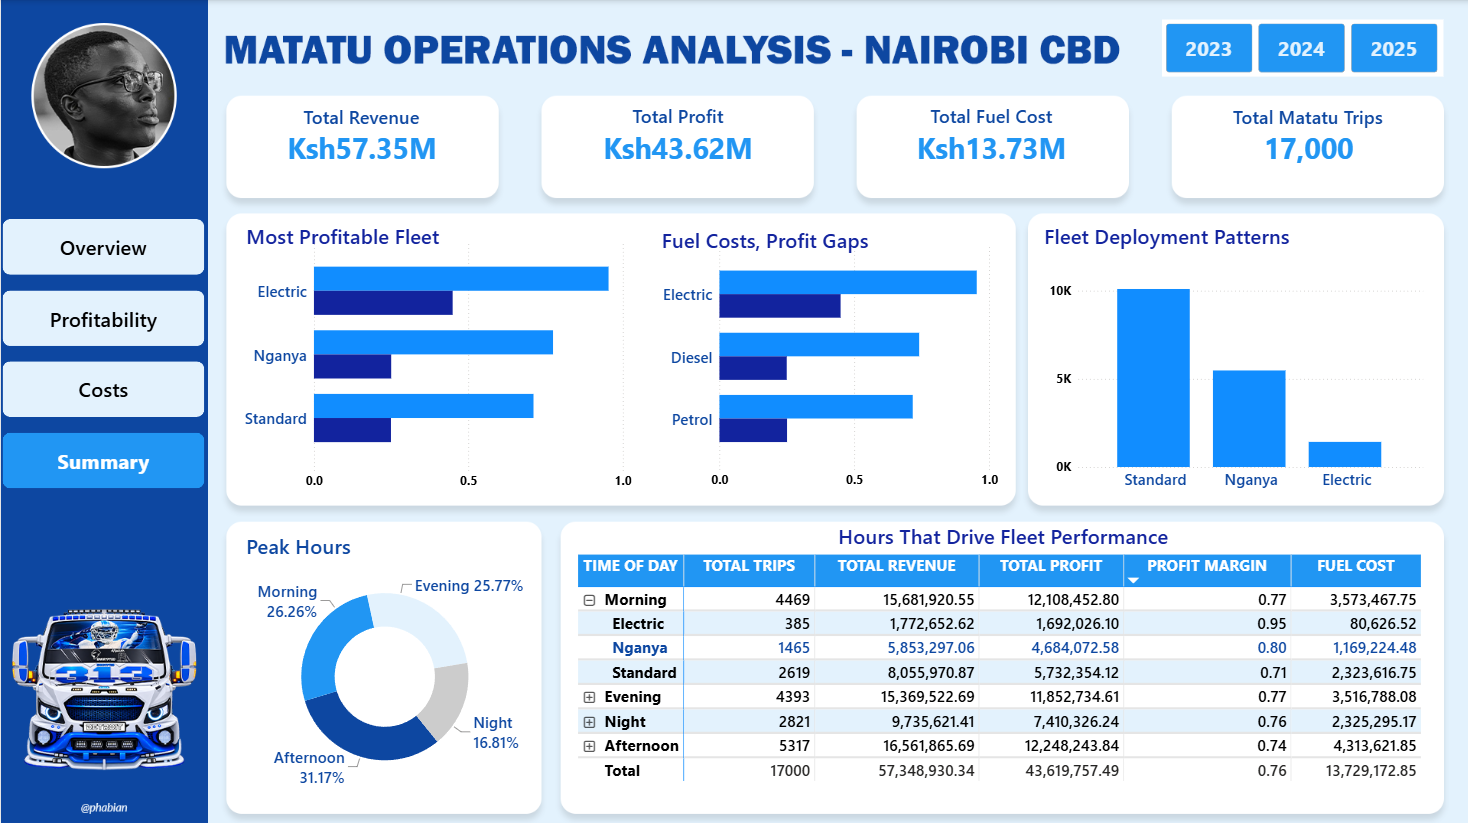

This screenshot's page, from the dashboard's own definition file:
{"tool":"powerbi","page":{"name":"Summary","canvas":[1920,1080],"ordinal":3},"visuals":[{"type":"cardVisual","fields":{"Data":["public matatu_operation_dataset.Total Revenue"]},"box":[297.5,124.9,347.5,131.7],"z":0},{"type":"cardVisual","fields":{"Data":["public matatu_operation_dataset.Total Profit"]},"box":[710.2,125.9,351,132.1],"z":1000},{"type":"cardVisual","fields":{"Data":["public matatu_operation_dataset.Formatted Trips"]},"box":[1535.1,125.3,348.9,132.1],"z":2000},{"type":"cardVisual","fields":{"Data":["public matatu_operation_dataset.Total fuel Cost"]},"box":[1120,126,351,132.1],"z":3000},{"type":"textbox","box":[315.8,690.4,366.8,58.8],"z":4000},{"type":"textbox","box":[1358.2,283.9,463.3,59.1],"z":5000},{"type":"textbox","box":[1040.3,676.8,549.7,59.1],"z":6000},{"type":"textbox","box":[322,132,299.4,59.9],"z":7000},{"type":"textbox","box":[1560,132,299.4,59.9],"z":8000},{"type":"textbox","box":[1146,130,299.4,59.9],"z":9000},{"type":"textbox","box":[734.6,129.7,299.4,59.9],"z":10000},{"type":"advancedSlicerVisual","fields":{"Values":["Date.Year"]},"box":[1517.2,25,368,75],"z":11000},{"type":"pageNavigator","box":[2.2,286.1,264.1,352.2],"z":12000},{"type":"clusteredColumnChart","fields":{"Y":["public matatu_operation_dataset.Total Trips"],"Category":["public matatu_operation_dataset.vehicle_type"]},"box":[1365.1,320.3,499.7,331.6],"z":13000},{"type":"pivotTable","fields":{"Rows":["public matatu_operation_dataset.time_of_day","public matatu_operation_dataset.vehicle_type"],"Values":["public matatu_operation_dataset.Total Trips","public matatu_operation_dataset.Total Revenue","public matatu_operation_dataset.Total Profit","public matatu_operation_dataset.Profit Margin","public matatu_operation_dataset.Total fuel Cost"]},"box":[749.5,720,1115.2,329.3],"z":14000},{"type":"donutChart","fields":{"Category":["public matatu_operation_dataset.time_of_day"],"Y":["Sum(public matatu_operation_dataset.passenger_count)"]},"box":[311.2,720,379.3,329.3],"z":15000},{"type":"clusteredBarChart","fields":{"Category":["public matatu_operation_dataset.vehicle_type"],"Y":["public matatu_operation_dataset.Profit Margin","public matatu_operation_dataset.Fuel Consumption Rate"]},"box":[311.2,302.1,517.9,347.5],"z":16000},{"type":"clusteredBarChart","fields":{"Category":["public matatu_operation_dataset.fuel_type"],"Y":["public matatu_operation_dataset.Profit Margin","public matatu_operation_dataset.Fuel Consumption Rate"]},"box":[858.6,308.9,449.7,340.7],"z":17000},{"type":"textbox","box":[315.7,283.9,463.3,59.1],"z":18000},{"type":"textbox","box":[858.6,290.7,463.3,59.1],"z":19000}]}

Visuals, with their boxes in screenshot pixels (x1, y1, x2, y2), scaled from the page's 1920x1080 canvas onto the 1468x823 screenshot:
cardVisual - public matatu_operation_dataset.Total Revenue: l=227, t=95, r=493, b=196
cardVisual - public matatu_operation_dataset.Total Profit: l=543, t=96, r=811, b=197
cardVisual - public matatu_operation_dataset.Formatted Trips: l=1174, t=95, r=1440, b=196
cardVisual - public matatu_operation_dataset.Total fuel Cost: l=856, t=96, r=1125, b=197
textbox: l=241, t=526, r=522, b=571
textbox: l=1038, t=216, r=1393, b=261
textbox: l=795, t=516, r=1216, b=561
textbox: l=246, t=101, r=475, b=146
textbox: l=1193, t=101, r=1422, b=146
textbox: l=876, t=99, r=1105, b=145
textbox: l=562, t=99, r=791, b=144
advancedSlicerVisual - Date.Year: l=1160, t=19, r=1441, b=76
pageNavigator: l=2, t=218, r=204, b=486
clusteredColumnChart - public matatu_operation_dataset.Total Trips x public matatu_operation_dataset.vehicle_type: l=1044, t=244, r=1426, b=497
pivotTable - public matatu_operation_dataset.time_of_day x public matatu_operation_dataset.vehicle_type: l=573, t=549, r=1426, b=800
donutChart - public matatu_operation_dataset.time_of_day x Sum(public matatu_operation_dataset.passenger_count): l=238, t=549, r=528, b=800
clusteredBarChart - public matatu_operation_dataset.vehicle_type x public matatu_operation_dataset.Profit Margin: l=238, t=230, r=634, b=495
clusteredBarChart - public matatu_operation_dataset.fuel_type x public matatu_operation_dataset.Profit Margin: l=656, t=235, r=1000, b=495
textbox: l=241, t=216, r=596, b=261
textbox: l=656, t=222, r=1011, b=267
